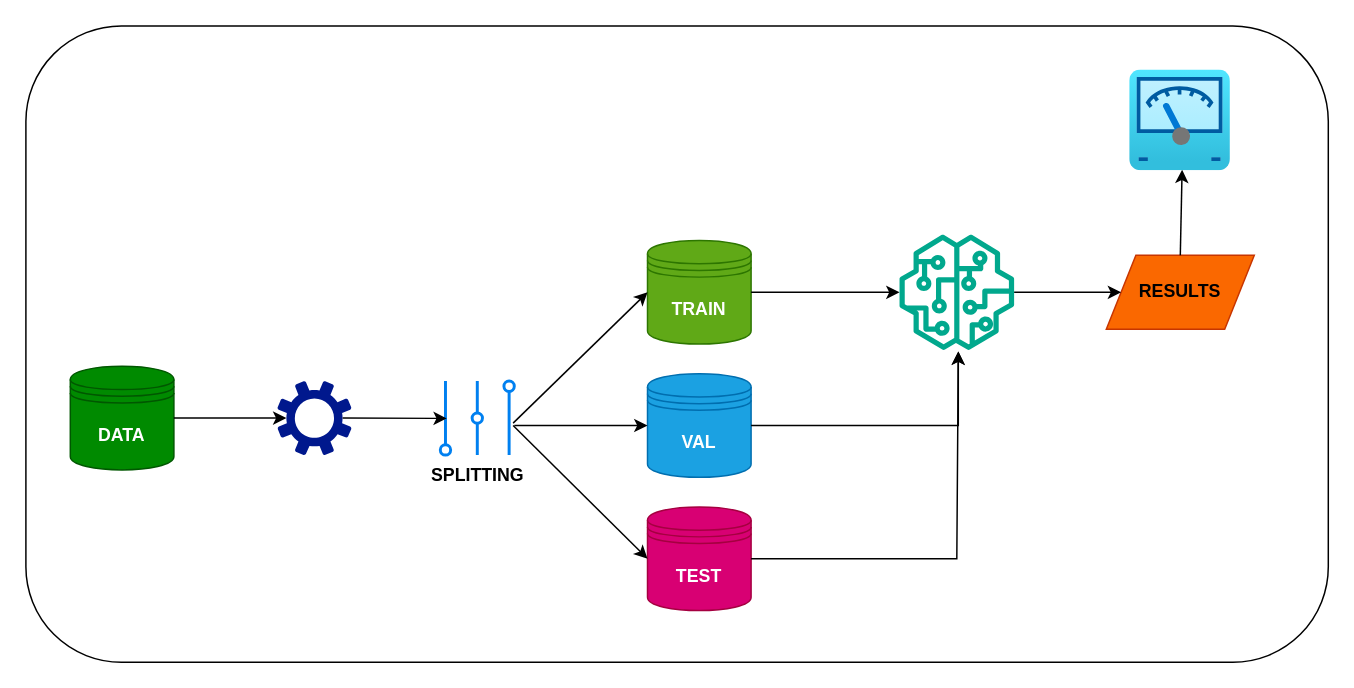
This 1354x688 diagram has some shape labels left out. The shapes that lost their labels are listed below. From the top down, each one's box as (x1, y1, x2, y2) in pixels, then its label:
(1129, 70, 1230, 170): MONITOR
(898, 234, 1014, 349): MODEL
(277, 380, 351, 454): PROCESSING
